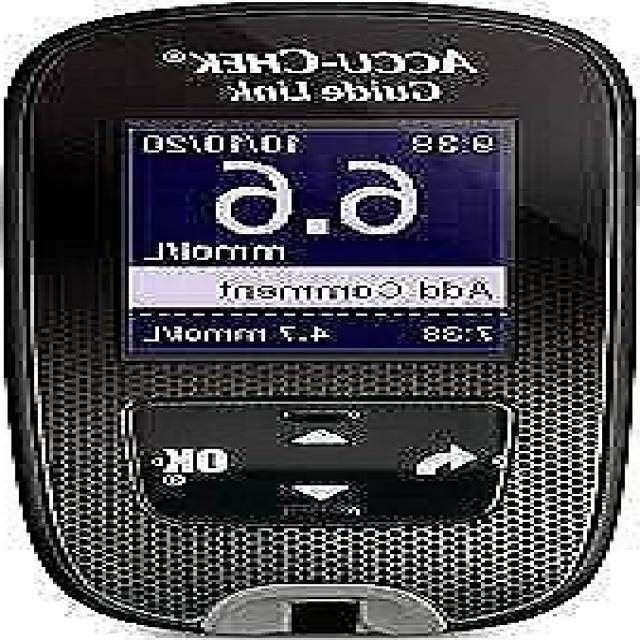gluco: (4, 2, 640, 638)
